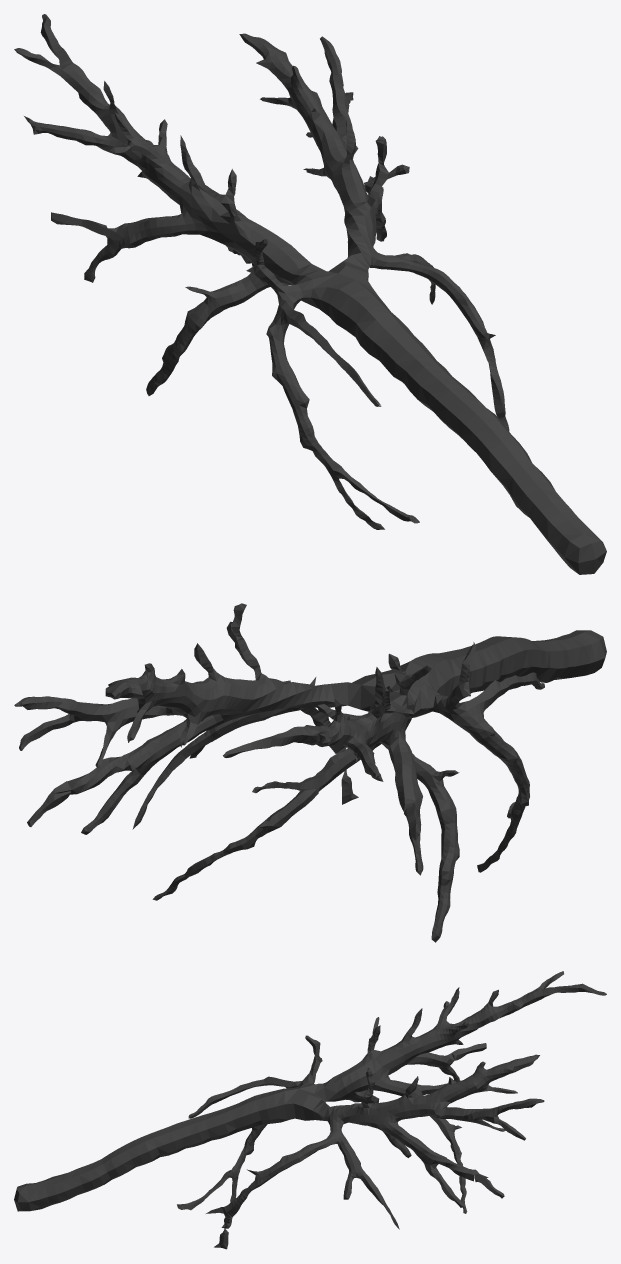
The model's file is Trachea.glb.
The picture shows the model from 3 angles, top to bottom: view 1: azimuth 30°, elevation 25°; view 2: azimuth 150°, elevation 25°; view 3: azimuth 270°, elevation 25°; orthographic projection. The views are drawn at different scales.
Parts seen in each view (by area): view 1: Trachea; view 2: Trachea; view 3: Trachea.
Part boxes in pixels (box(x1,y1,x2,y2)): Trachea: box(14, 14, 606, 574); Trachea: box(14, 603, 606, 942); Trachea: box(14, 971, 606, 1249).
Size of the model in its own units: 1.24 by 1.17 by 2.83.
1 material, 1 textured.
